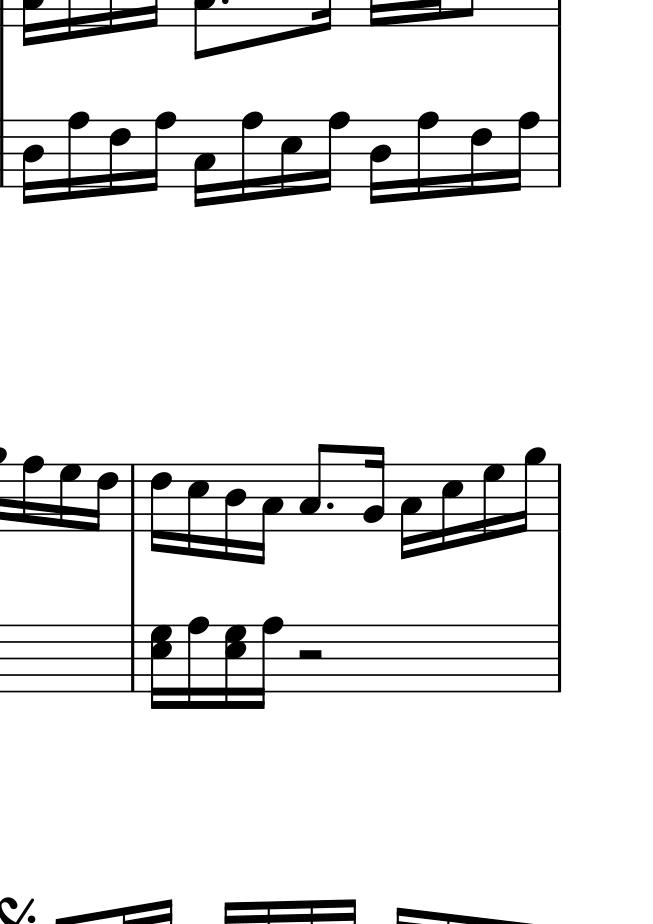16_2: (361, 444, 386, 532)
16_3: (253, 462, 283, 566), (399, 463, 422, 561), (191, 118, 215, 209)
16_4: (222, 463, 246, 563), (367, 118, 392, 205), (20, 118, 44, 205)
16_5: (185, 462, 209, 558), (439, 462, 464, 551), (278, 118, 303, 198)
16_5_7: (149, 624, 172, 710), (224, 624, 247, 710)
16_6: (148, 461, 172, 553), (88, 462, 118, 533), (468, 116, 493, 197), (107, 117, 132, 197)
16_7: (480, 461, 504, 544), (56, 461, 81, 533)
16_8: (251, 616, 282, 712), (143, 111, 177, 193), (316, 111, 350, 193), (506, 111, 539, 192), (238, 110, 264, 204), (414, 110, 439, 203), (185, 615, 209, 711), (65, 110, 90, 201), (19, 455, 43, 533)
16_9: (515, 445, 545, 535)
8_3: (298, 443, 329, 532)
Rests2: (296, 647, 325, 663)
Single_barline: (124, 464, 140, 532), (125, 625, 141, 691), (552, 463, 567, 531), (552, 120, 567, 186), (551, 626, 566, 691), (1, 120, 8, 187)
dot: (324, 499, 335, 512)
